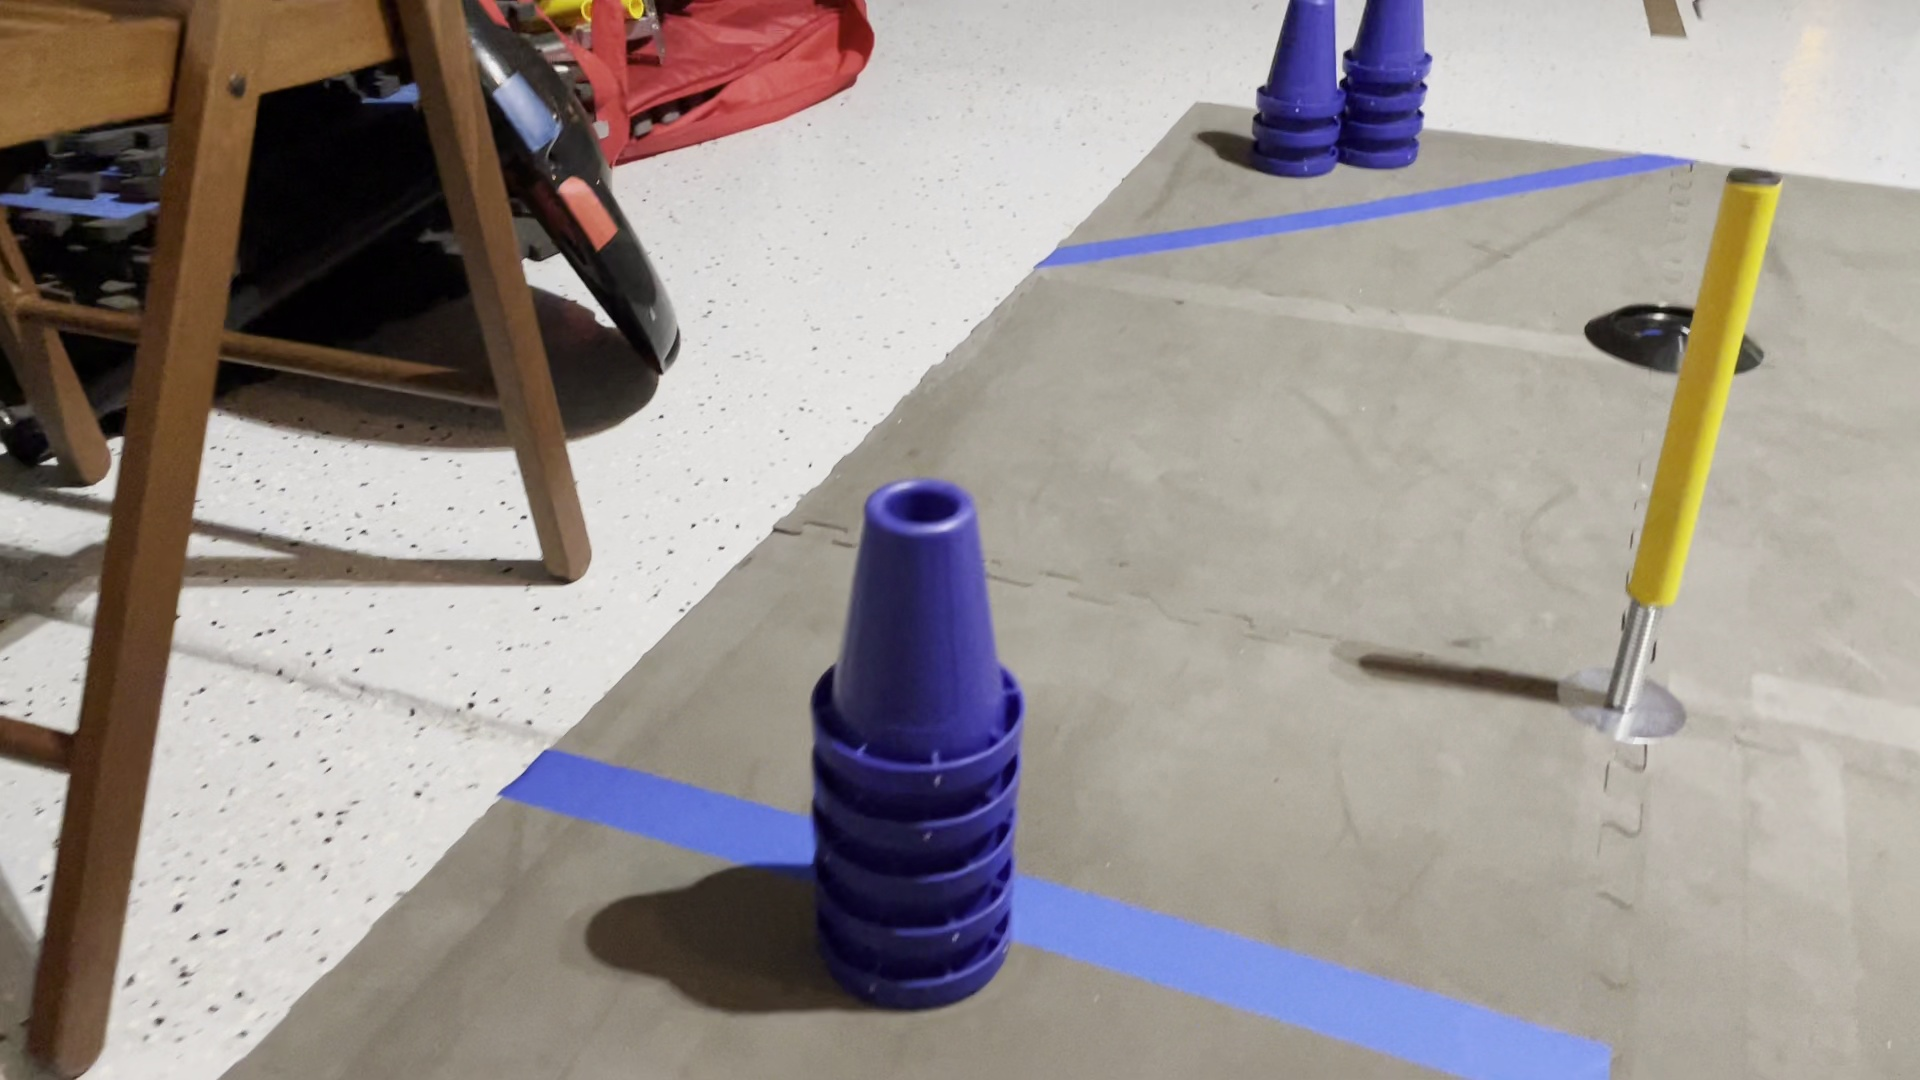cone: (798, 467, 1043, 1018)
